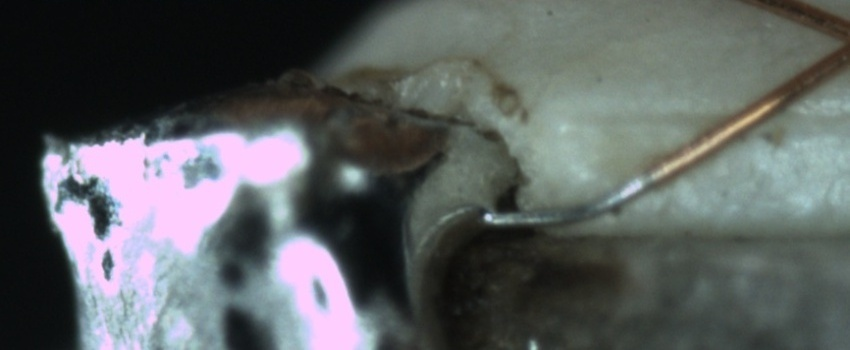CL: (807, 7, 850, 81)
DL: (572, 82, 846, 156)
TS: (480, 172, 659, 233)
TTCW: (466, 153, 679, 234)
